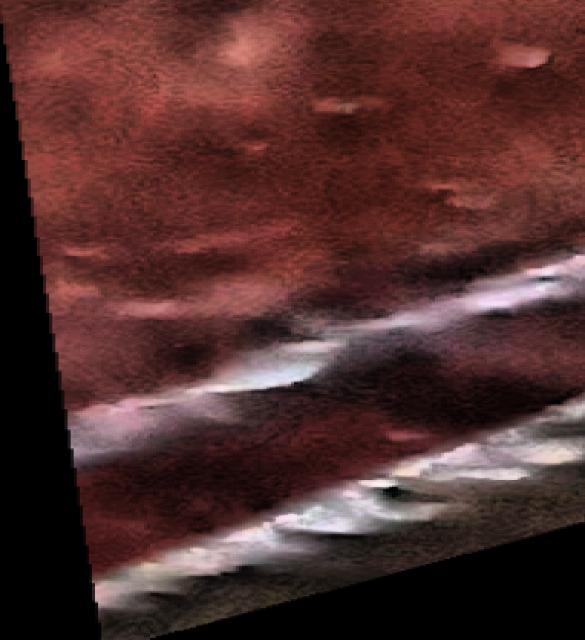stairs: (1, 0, 585, 640)
